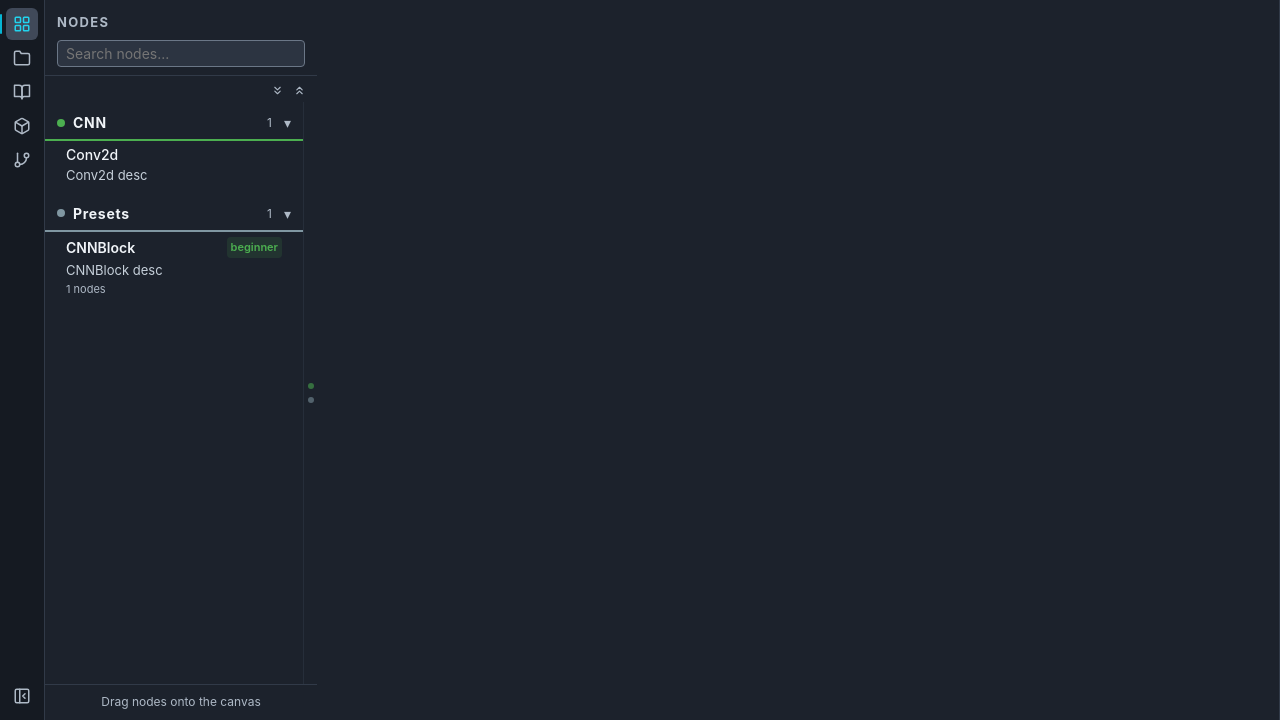
Scenario: NodePalette (sidebar shell) › labels the panel with the tab that opened it
The image size is (1280, 720).
Click the tab named "Graphs" at (22, 58), box x1=6 y1=42 x2=38 y2=74
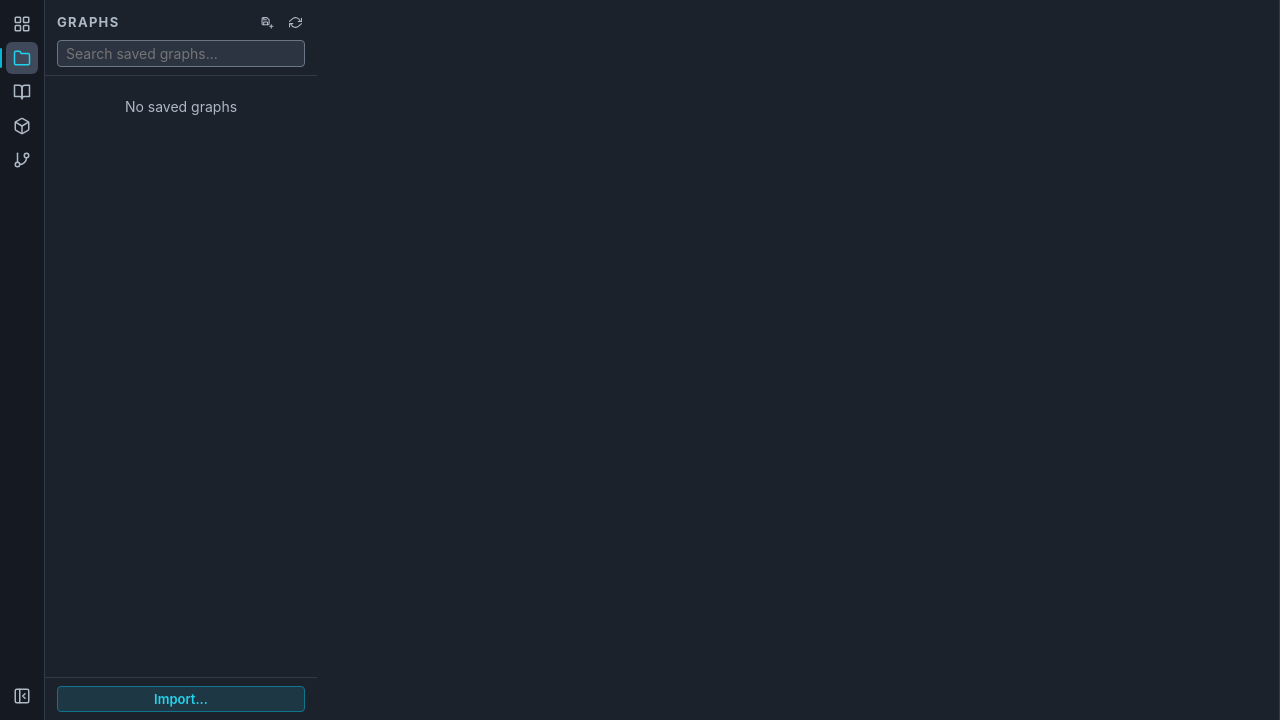
Check: the text "No saved graphs" is shown, box x1=125 y1=98 x2=237 y2=115
